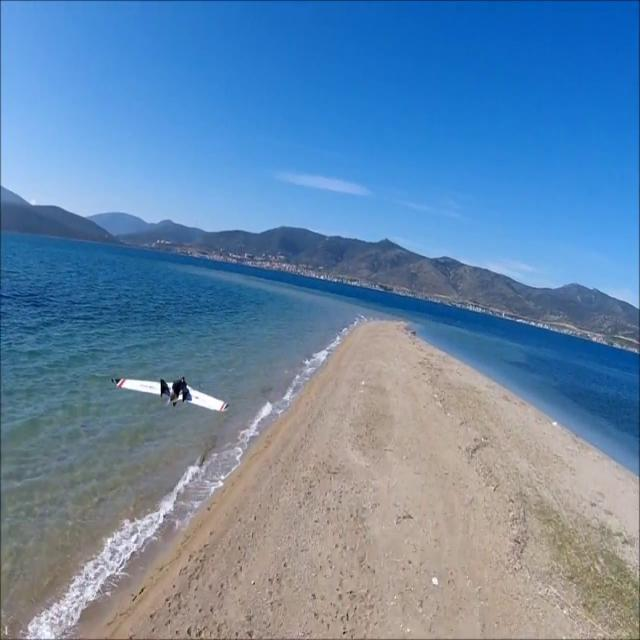iha: (144, 382, 201, 386)
